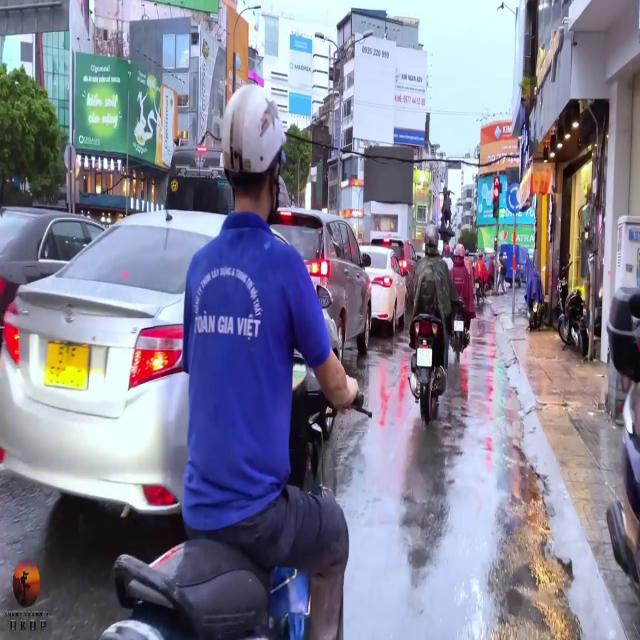bien_vang: (42, 341, 90, 392)
